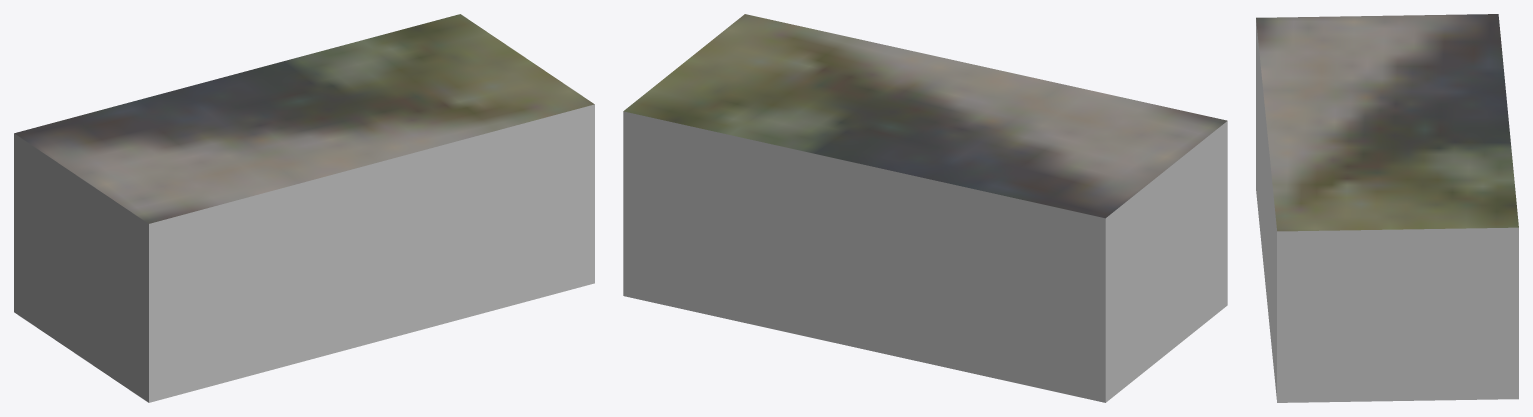
The model's file is DEBW_001000hpuJW.gltf.
The picture shows the model from 3 angles, left to right: view 1: azimuth 30°, elevation 25°; view 2: azimuth 150°, elevation 25°; view 3: azimuth 270°, elevation 25°; orthographic projection. The views are drawn at different scales.
Parts seen in each view (by area): view 1: Z_UP; view 2: Z_UP; view 3: Z_UP.
Part boxes in pixels (<box>): Z_UP: <box>14,14,594,402</box>; Z_UP: <box>623,14,1227,402</box>; Z_UP: <box>1256,14,1518,402</box>.
Size of the model in its own units: 6.81 by 2.5 by 3.48.
Materials: 2 (1 with a texture image).
